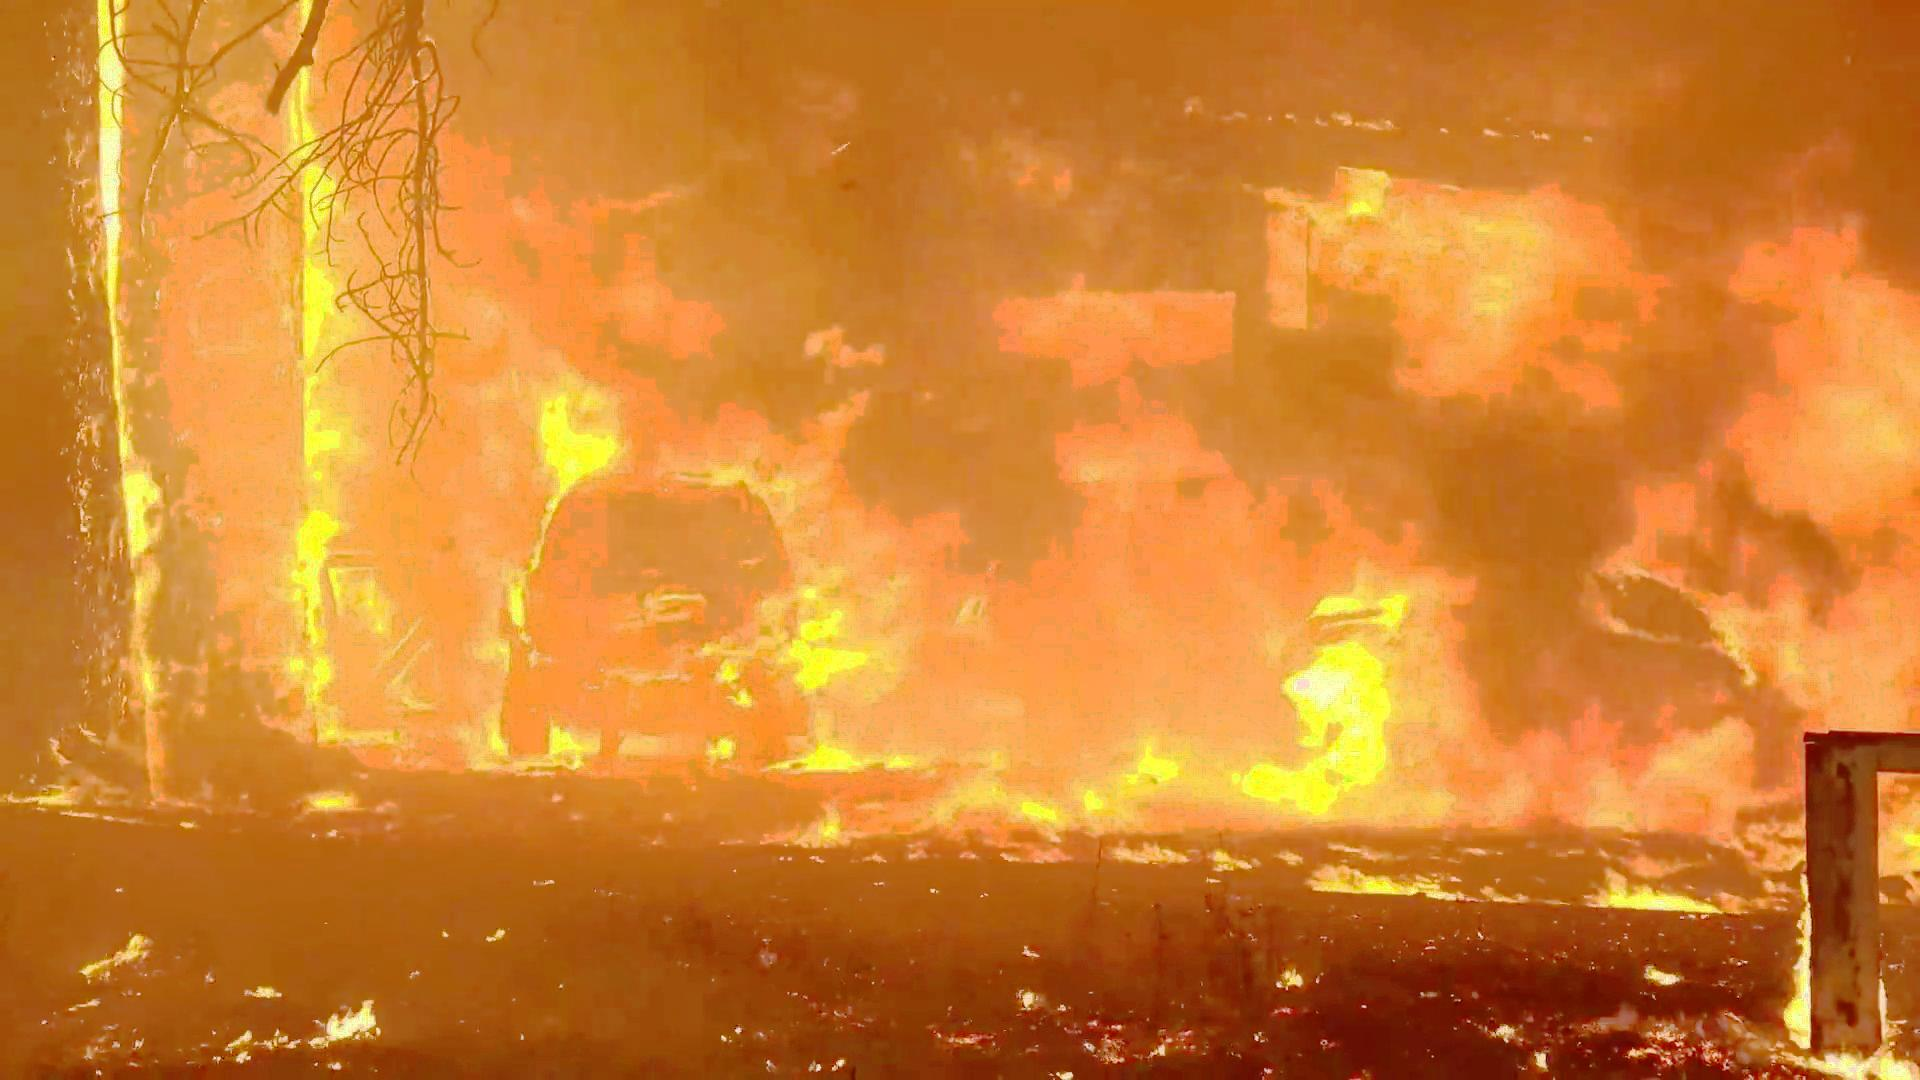fire: (252, 41, 385, 735), (691, 483, 926, 758), (1269, 136, 1561, 347), (1225, 578, 1461, 827)
smoke: (1658, 0, 1920, 200)
